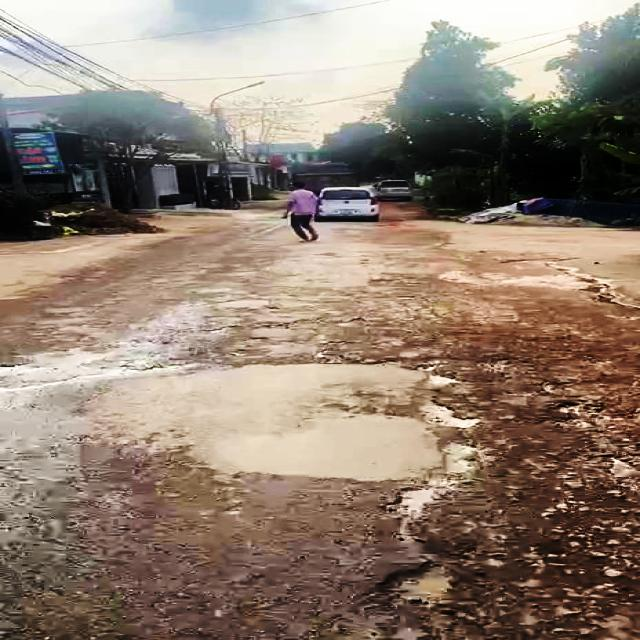pothole: (360, 561, 494, 628), (383, 444, 487, 527), (550, 395, 640, 481), (404, 361, 483, 432), (311, 338, 368, 368)
